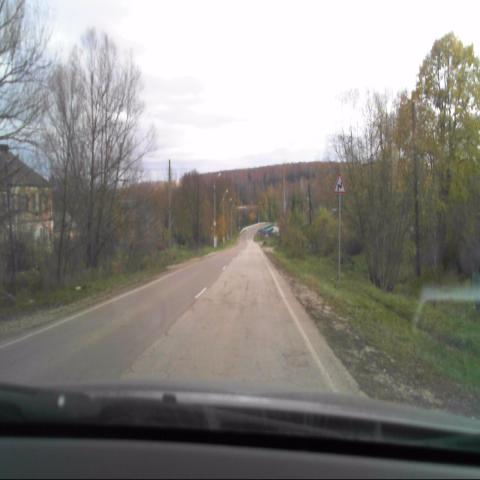1_12: (332, 173, 346, 194)
